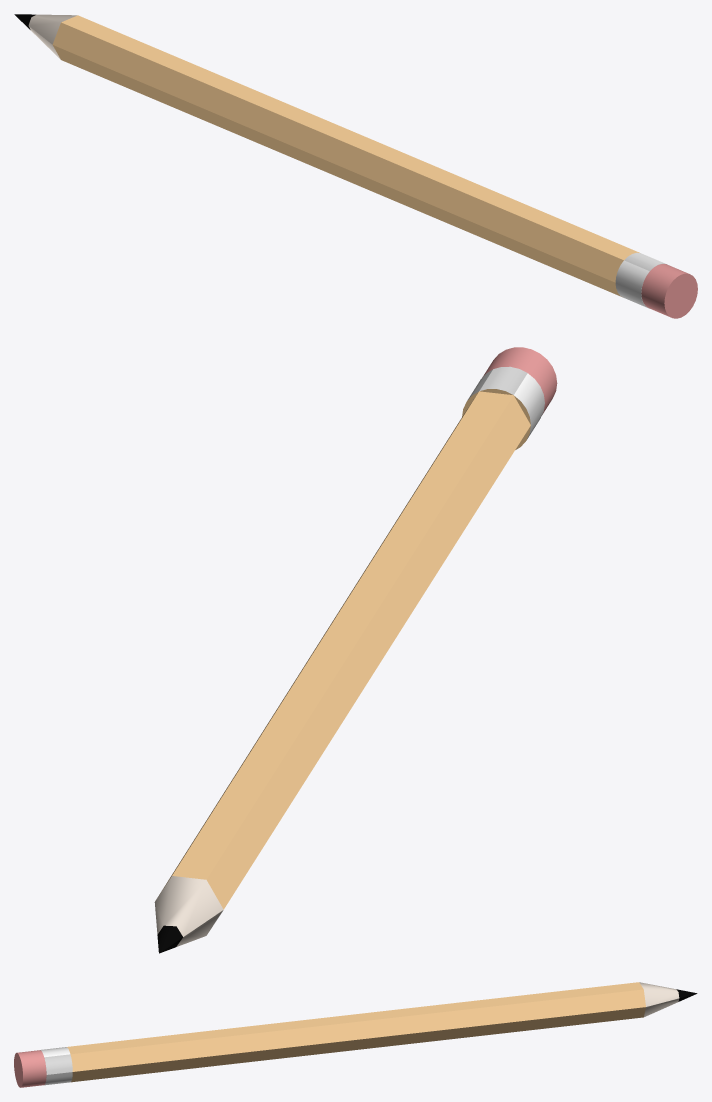
Rendered from pencil.fbx.
3 views of the same model, one above another, from view 1: azimuth 30°, elevation 25°; view 2: azimuth 150°, elevation 25°; view 3: azimuth 270°, elevation 25° (orthographic). The views are drawn at different scales.
Visible parts, largest first — view 1: SketchUp2; view 2: SketchUp2; view 3: SketchUp2.
Part boxes in pixels (<box>): SketchUp2: <box>14,14,697,318</box>; SketchUp2: <box>154,347,557,953</box>; SketchUp2: <box>14,982,697,1087</box>.
Bounding box in the file's own units: 23.18 × 4.11 × 78.77.
Materials: 6 (1 with a texture image).
